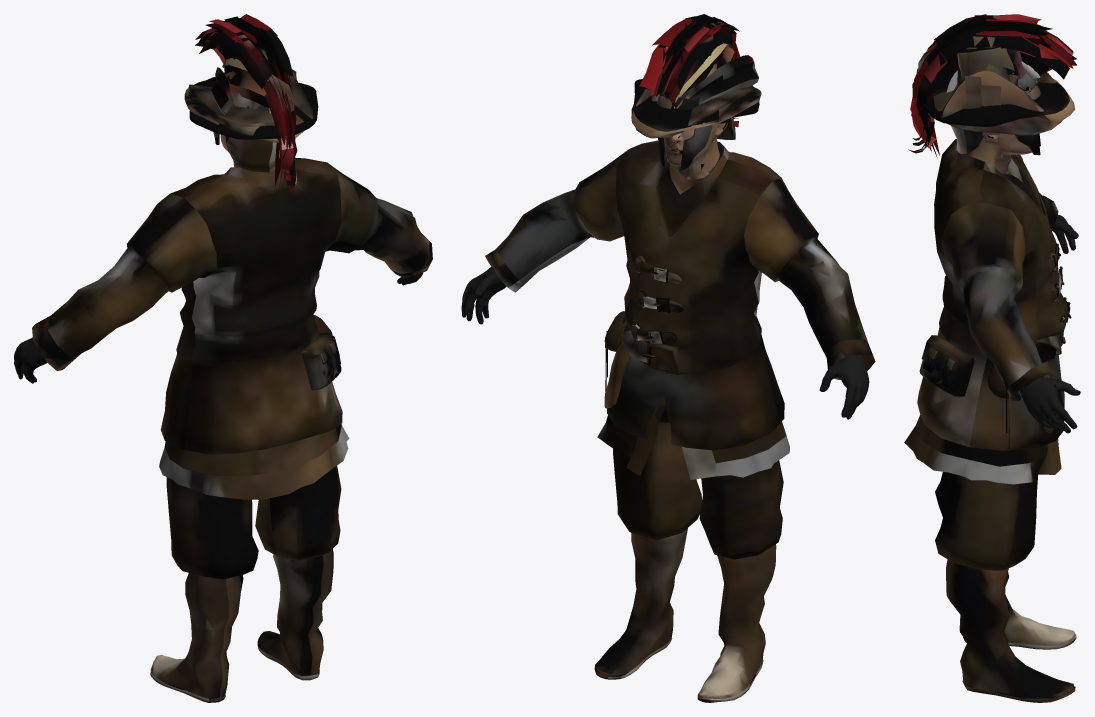
3 views of the same model, side by side, from view 1: azimuth 30°, elevation 25°; view 2: azimuth 150°, elevation 25°; view 3: azimuth 270°, elevation 25° (orthographic). The views are drawn at different scales.
Visible parts, largest first — view 1: mesh_0; view 2: mesh_0; view 3: mesh_0.
Part boxes in pixels (x1,y1,x2,y2): mesh_0: (14, 14, 432, 702); mesh_0: (461, 14, 875, 702); mesh_0: (904, 14, 1080, 702).
Size of the model in its own units: 49.96 by 78.11 by 19.2.
Materials: 1 (1 with a texture image).
